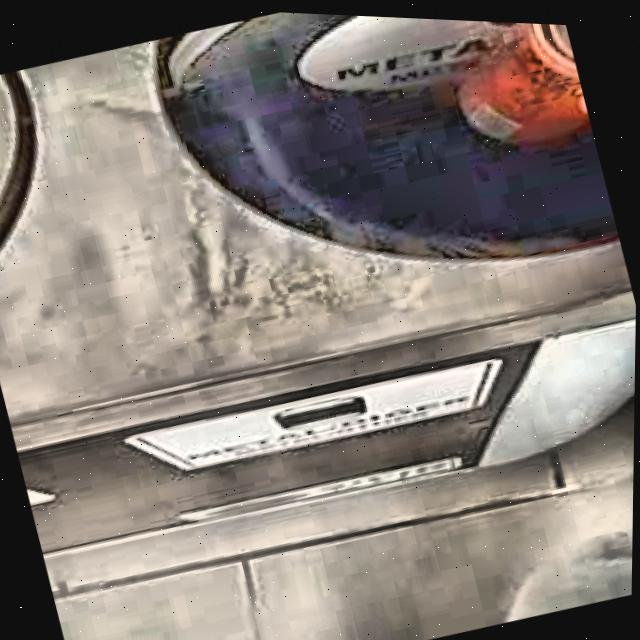metal: (461, 18, 590, 137)
